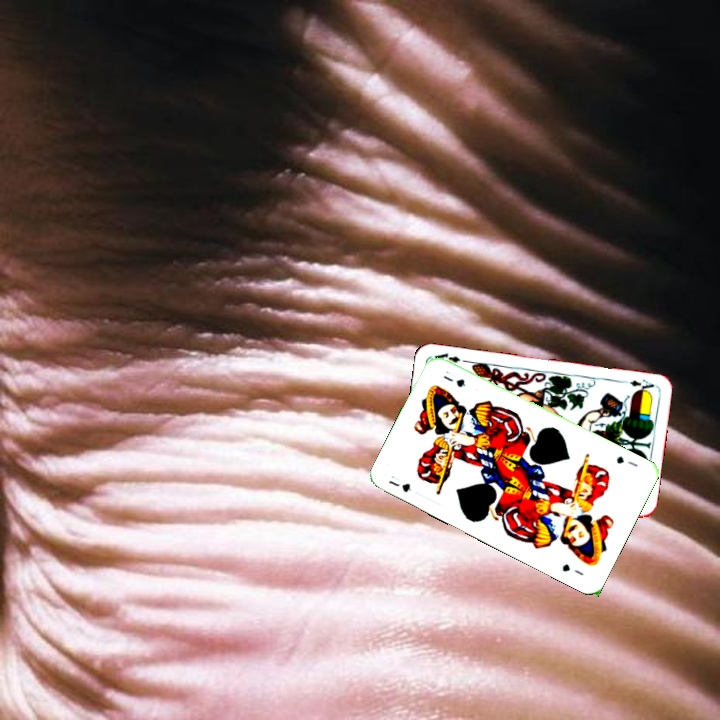EA: (616, 375, 657, 395)
GU: (385, 476, 414, 495), (612, 452, 640, 469)
